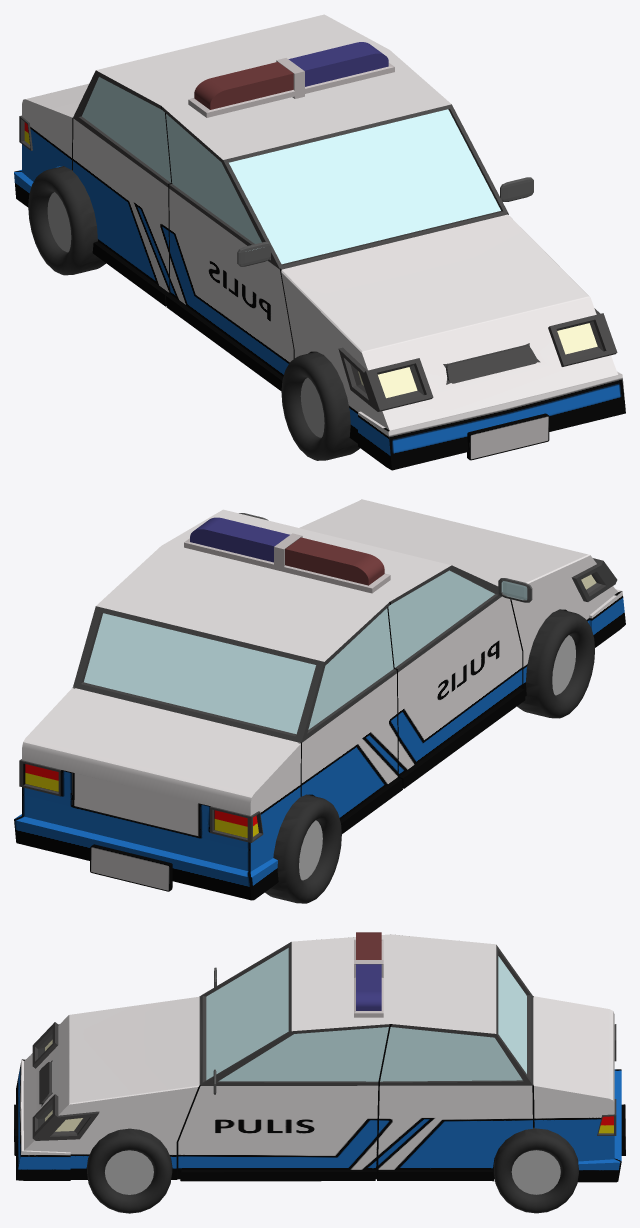
Rendered from Police.fbx.
3 views of the same model, one above another, from view 1: azimuth 30°, elevation 25°; view 2: azimuth 150°, elevation 25°; view 3: azimuth 270°, elevation 25° (orthographic). The views are drawn at different scales.
Parts seen in each view (by area): view 1: pCube20, pCube17, polySurface40, polySurface43, pasted__Liscense_Plate9, pCube31, pCube30; view 2: pCube20, pCube17, polySurface40, polySurface43, pasted__Liscense_Plate8, pCube31; view 3: pCube20, polySurface43, polySurface40, pCube17.
Part boxes in pixels (<box>): pCube20: <box>14,14,625,470</box>; pCube17: <box>188,42,394,117</box>; polySurface40: <box>281,351,359,460</box>; polySurface43: <box>28,166,105,275</box>; pasted__Liscense_Plate9: <box>467,413,549,460</box>; pCube31: <box>237,242,271,266</box>; pCube30: <box>500,177,533,201</box>; pCube20: <box>14,499,625,900</box>; pCube17: <box>184,517,390,593</box>; polySurface40: <box>517,609,594,718</box>; polySurface43: <box>265,794,341,903</box>; pasted__Liscense_Plate8: <box>90,844,172,891</box>; pCube31: <box>498,578,532,602</box>; pCube20: <box>16,934,621,1182</box>; polySurface43: <box>494,1127,578,1213</box>; polySurface40: <box>87,1128,172,1213</box>; pCube17: <box>354,932,383,1017</box>.
Bounding box in the file's own units: 3.3 × 2.69 × 7.37.
8 materials, 4 textured.
